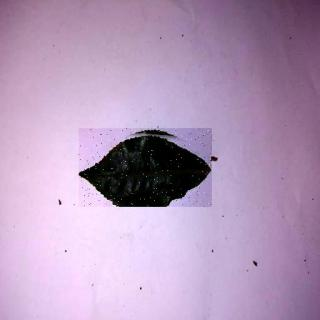Bird Eye Spot: (80, 129, 213, 208)
